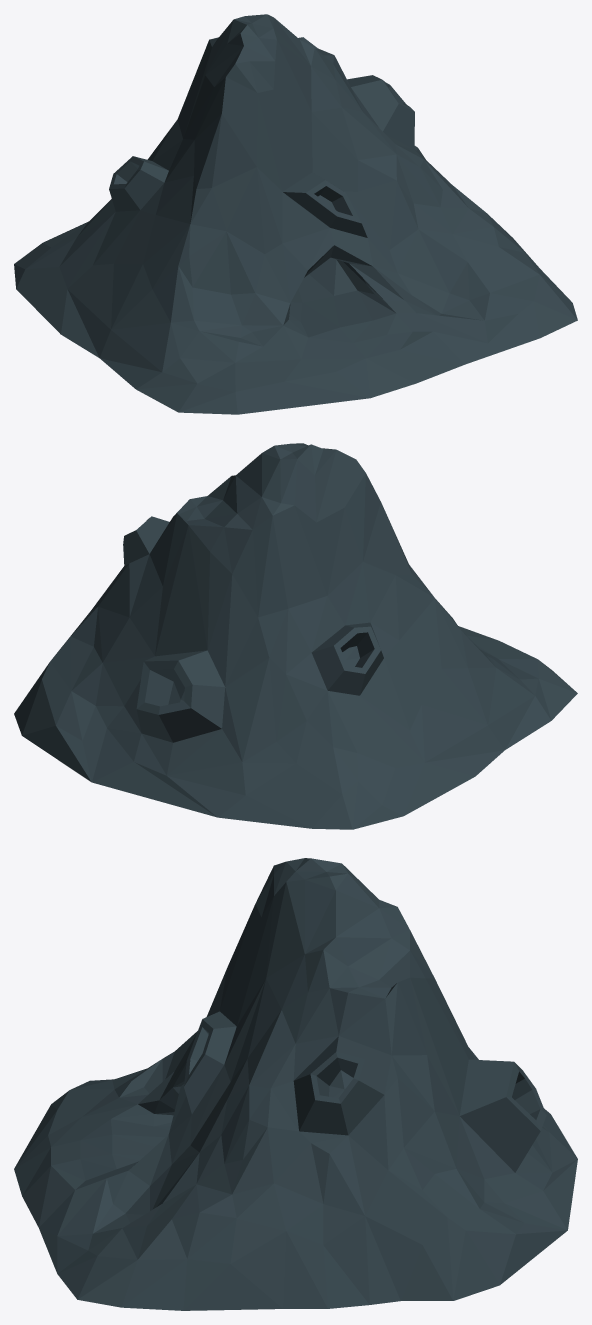
File: RH_Mountain.fbx
The picture shows the model from 3 angles, top to bottom: view 1: azimuth 30°, elevation 25°; view 2: azimuth 150°, elevation 25°; view 3: azimuth 270°, elevation 25°; orthographic projection. The views are drawn at different scales.
Parts seen in each view (by area): view 1: RH_Mountain; view 2: RH_Mountain; view 3: RH_Mountain.
Boxes of the visible parts, box(x1,y1,x2,y2) form: RH_Mountain: box(14, 14, 577, 414); RH_Mountain: box(14, 443, 577, 829); RH_Mountain: box(14, 858, 577, 1310).
Bounding box in the file's own units: 538 × 337 × 547.
1 material, 1 textured.
